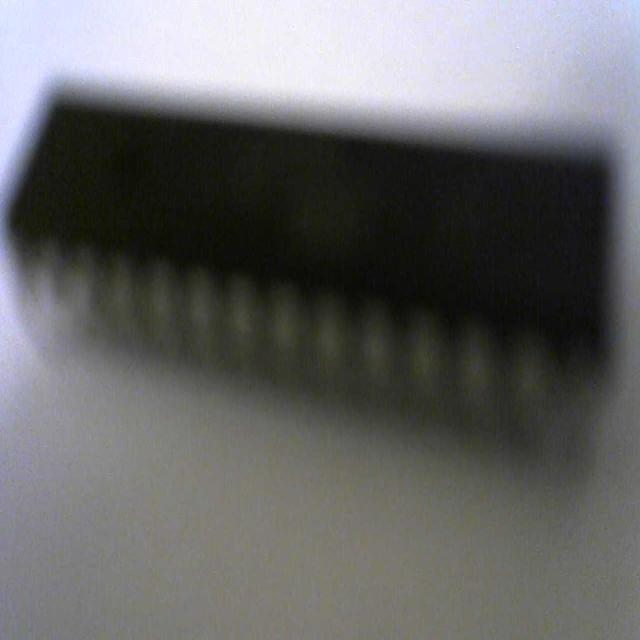atmega: (0, 61, 640, 483)
